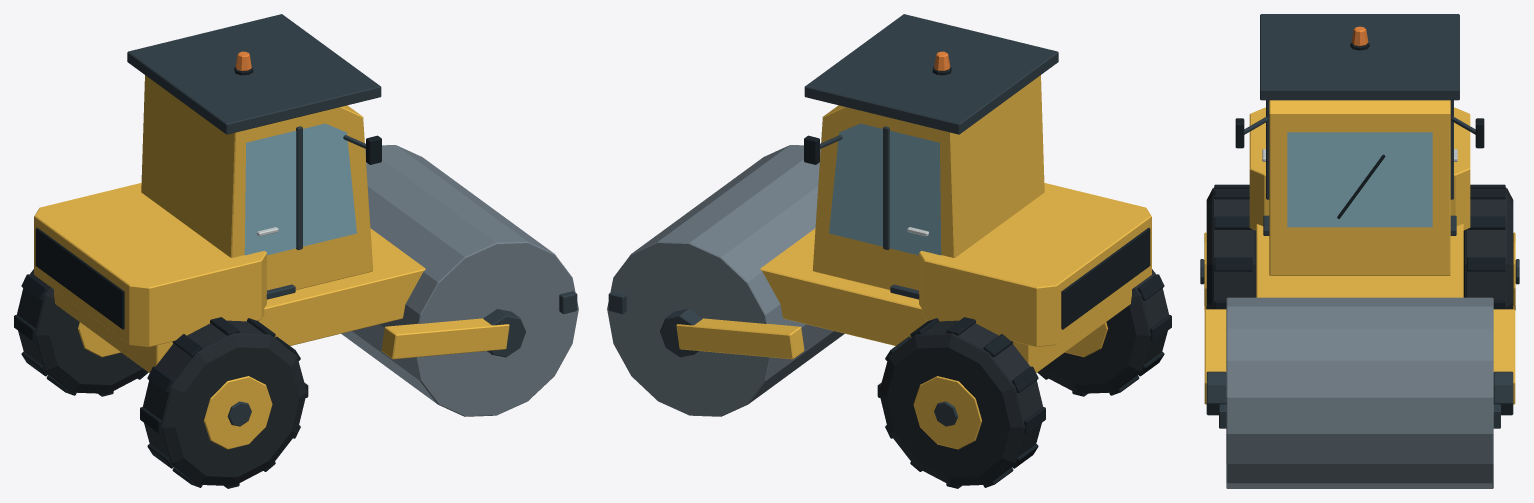
The model's file is b07_single_drum_soil_compactor.glb.
3 renders of one model, left to right at view 1: azimuth 30°, elevation 25°; view 2: azimuth 150°, elevation 25°; view 3: azimuth 270°, elevation 25°, orthographic.
Visible parts, largest first — view 1: b07_single_drum_soil_compactor; view 2: b07_single_drum_soil_compactor; view 3: b07_single_drum_soil_compactor.
Part boxes in pixels (box(x1,y1,x2,y2)): b07_single_drum_soil_compactor: box(14, 14, 578, 488); b07_single_drum_soil_compactor: box(607, 14, 1171, 488); b07_single_drum_soil_compactor: box(1200, 14, 1519, 488).
Size of the model in its own units: 4.1 by 3.26 by 2.6.
